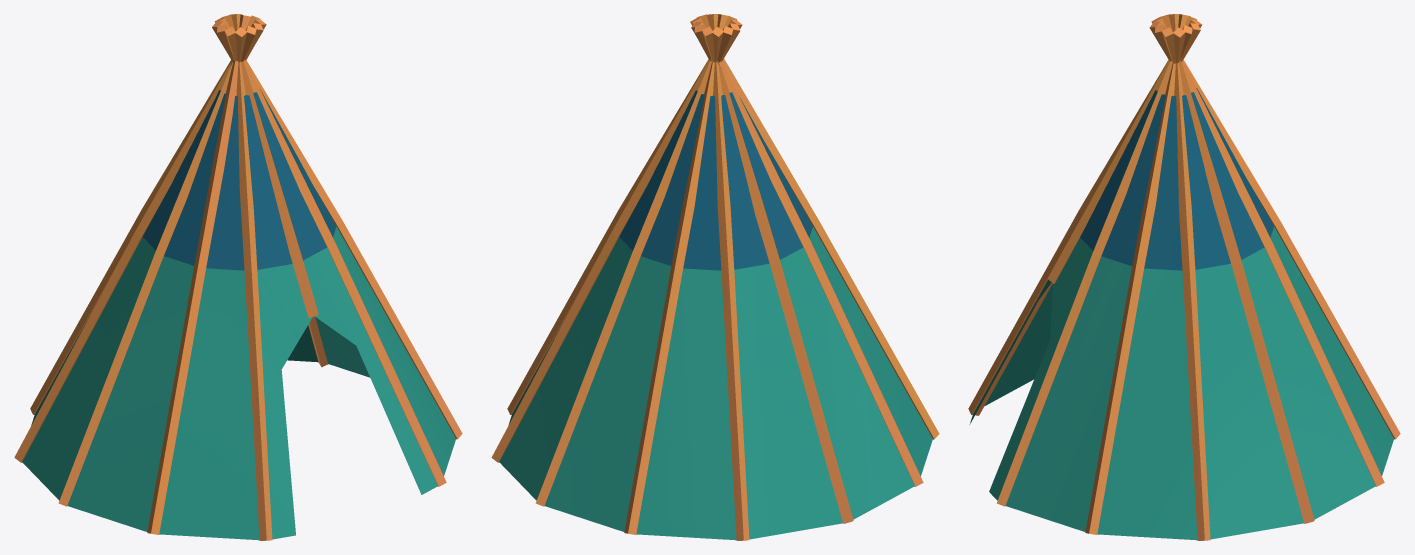
File: palat1.fbx
3 renders of one model, left to right at view 1: azimuth 30°, elevation 25°; view 2: azimuth 150°, elevation 25°; view 3: azimuth 270°, elevation 25°, orthographic.
Parts seen in each view (by area): view 1: Cone.016; view 2: Cone.016; view 3: Cone.016.
Part boxes in pixels (x1,y1,x2,y2): Cone.016: [14, 14, 462, 540]; Cone.016: [491, 14, 939, 540]; Cone.016: [968, 14, 1400, 540].
Size of the model in its own units: 622 by 659 by 600.
